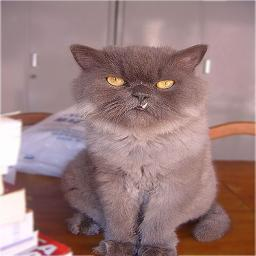catnose: (129, 90, 153, 102)
